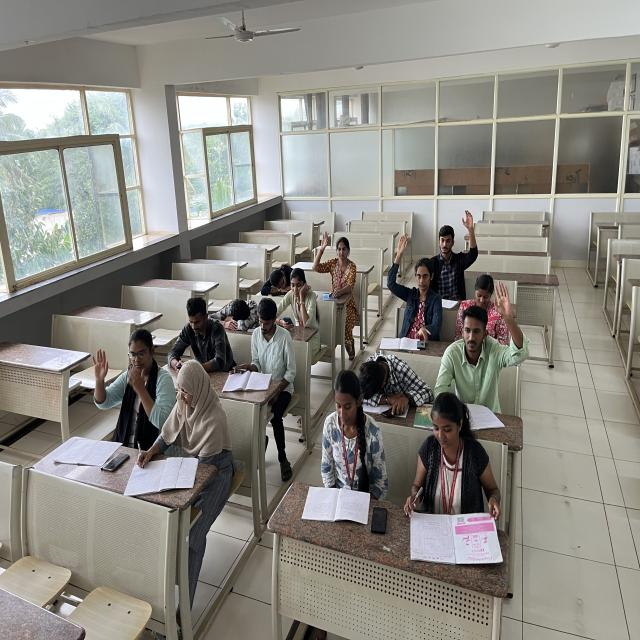Hand Rising: (431, 278, 536, 460), (89, 319, 180, 462), (380, 224, 456, 378), (420, 193, 490, 301), (311, 222, 368, 348)
Reading: (393, 390, 524, 584), (129, 363, 270, 528), (302, 362, 398, 554), (223, 302, 309, 416)
Sleeping: (353, 337, 441, 433), (256, 244, 312, 314), (208, 285, 267, 338)
Using Phone: (167, 289, 245, 388), (268, 262, 335, 360)
